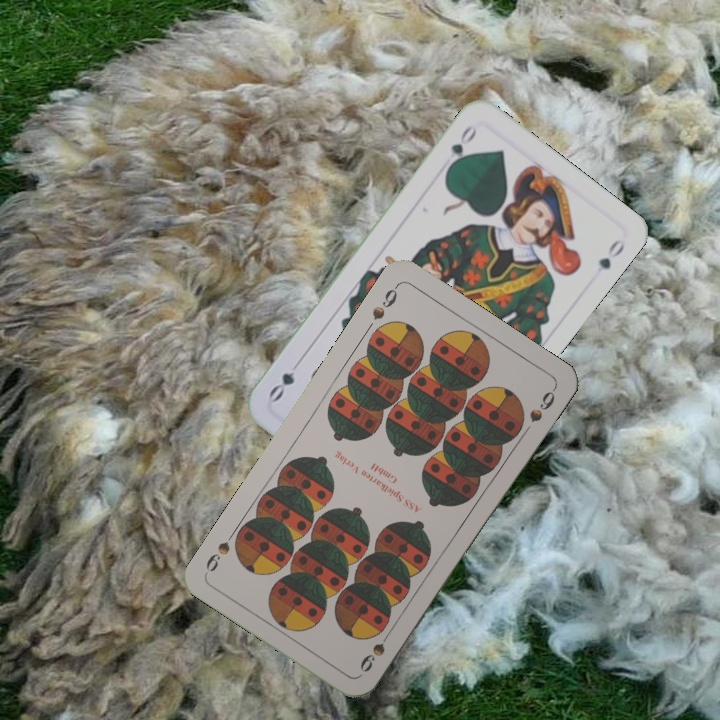GO: (443, 120, 480, 173)
S9: (355, 624, 395, 675), (368, 280, 401, 323)
